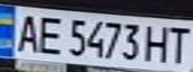3: (121, 20, 145, 62)
4: (84, 17, 106, 59)
5: (63, 16, 87, 57)
7: (103, 19, 124, 61)
A: (9, 11, 42, 53)
E: (33, 12, 66, 55)
H: (142, 22, 172, 64)
T: (163, 24, 193, 64)
